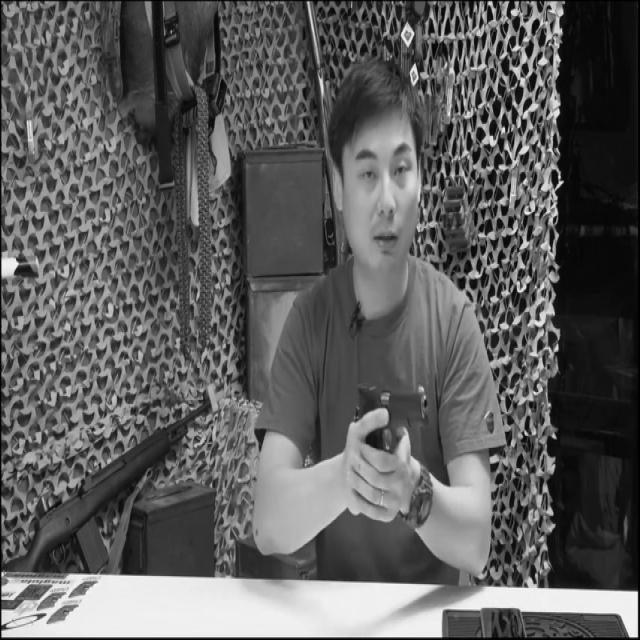Hand-Gun: (348, 383, 432, 482)
